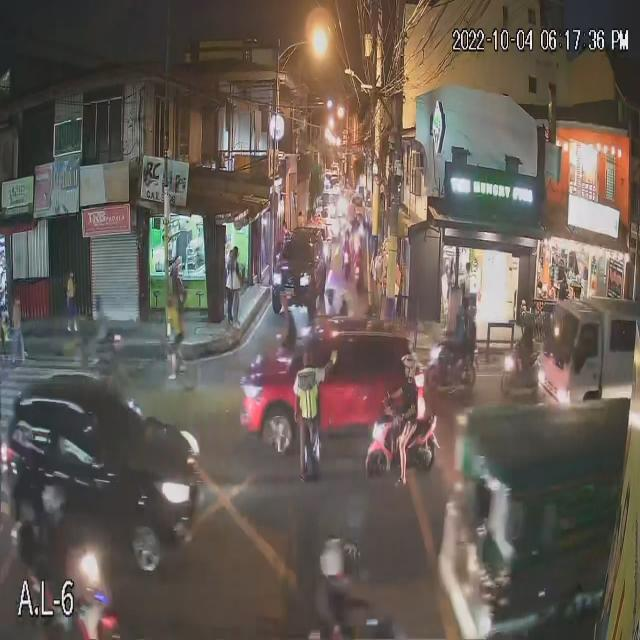helmet: (321, 547, 363, 582), (402, 356, 419, 375)
motorcycle: (367, 420, 437, 468), (429, 344, 476, 387), (503, 353, 542, 391), (338, 252, 351, 280), (355, 265, 365, 290)
rider: (404, 382, 417, 440), (521, 330, 532, 371), (458, 317, 464, 346)
